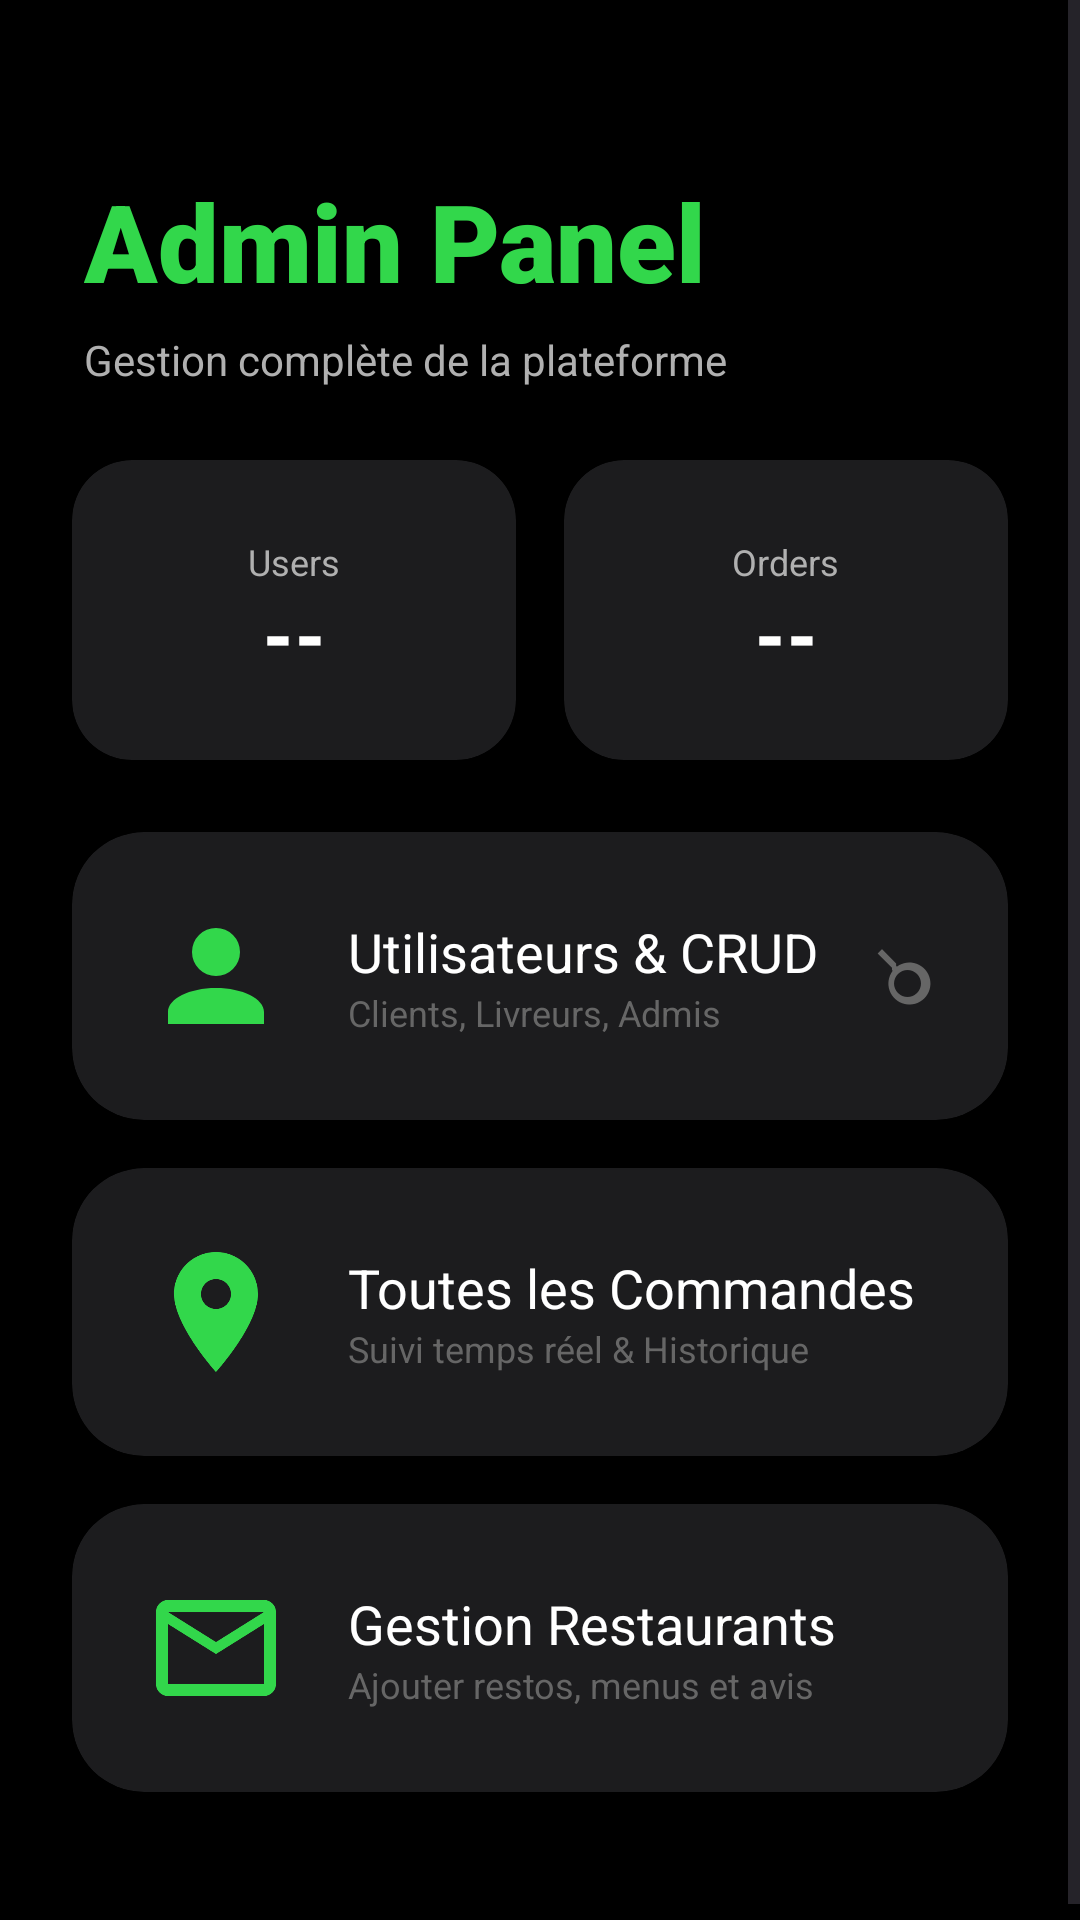

Named icons in this screenshot (1080x1920) and their bounding boxes, detection(x1, y1, x2, y2):
delivery marker: detection(174, 1252, 258, 1372)
mail: detection(156, 1600, 276, 1696)
profile: detection(168, 928, 264, 1024)
